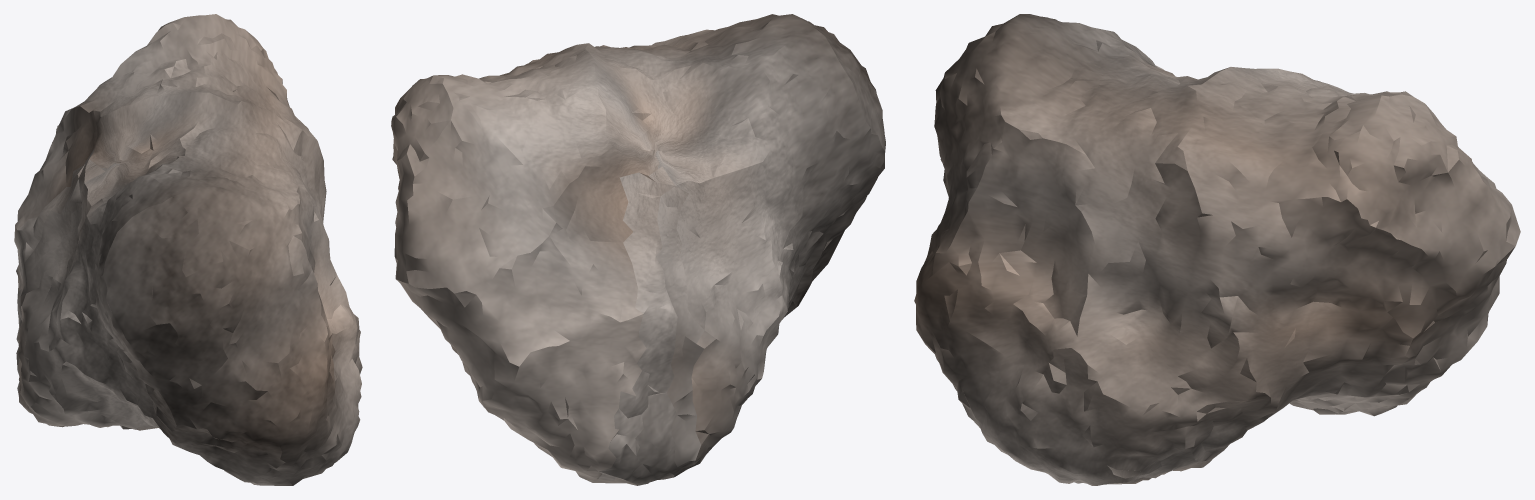
The model's file is Asteroid.dae.
3 renders of one model, left to right at view 1: azimuth 30°, elevation 25°; view 2: azimuth 150°, elevation 25°; view 3: azimuth 270°, elevation 25°, orthographic. The views are drawn at different scales.
Parts seen in each view (by area): view 1: rock; view 2: rock; view 3: rock.
Boxes of the visible parts, <box> form: rock: <box>14,14,362,485</box>; rock: <box>391,14,885,485</box>; rock: <box>914,14,1520,485</box>.
Size of the model in its own units: 1.88 by 2.74 by 2.05.
